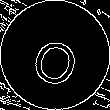O_N: (25, 24, 85, 86)
